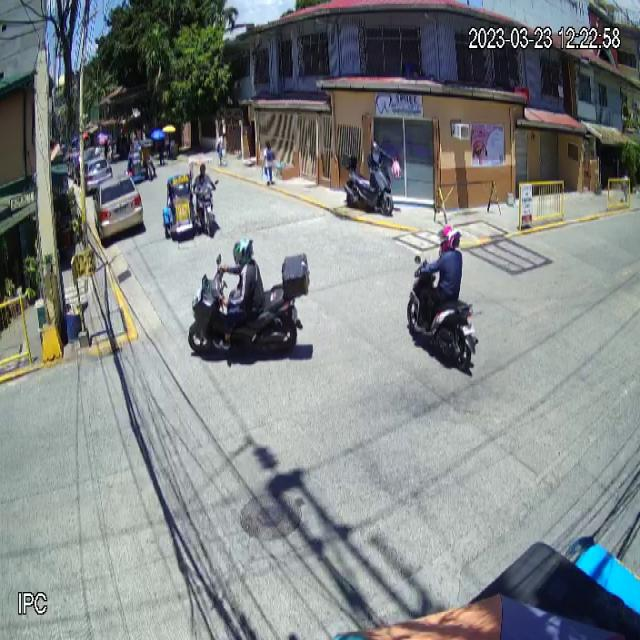Motorcycle: (186, 251, 312, 358), (407, 252, 478, 373)
Tricycle: (161, 154, 219, 243)
